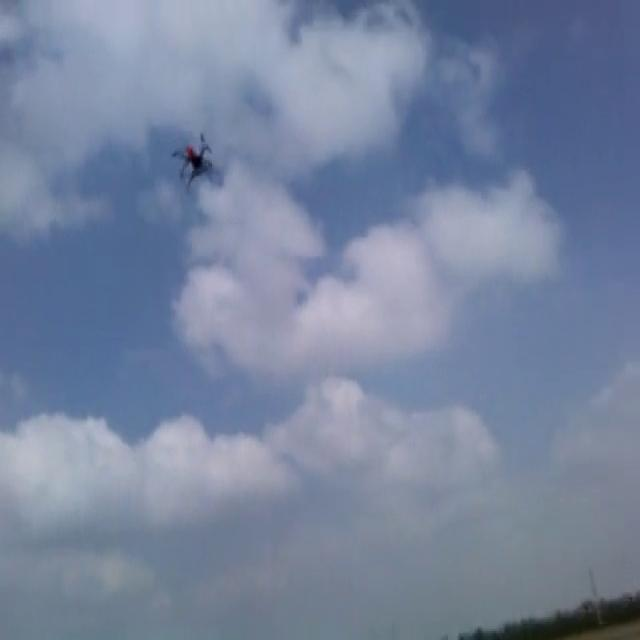drone: (167, 126, 218, 190)
